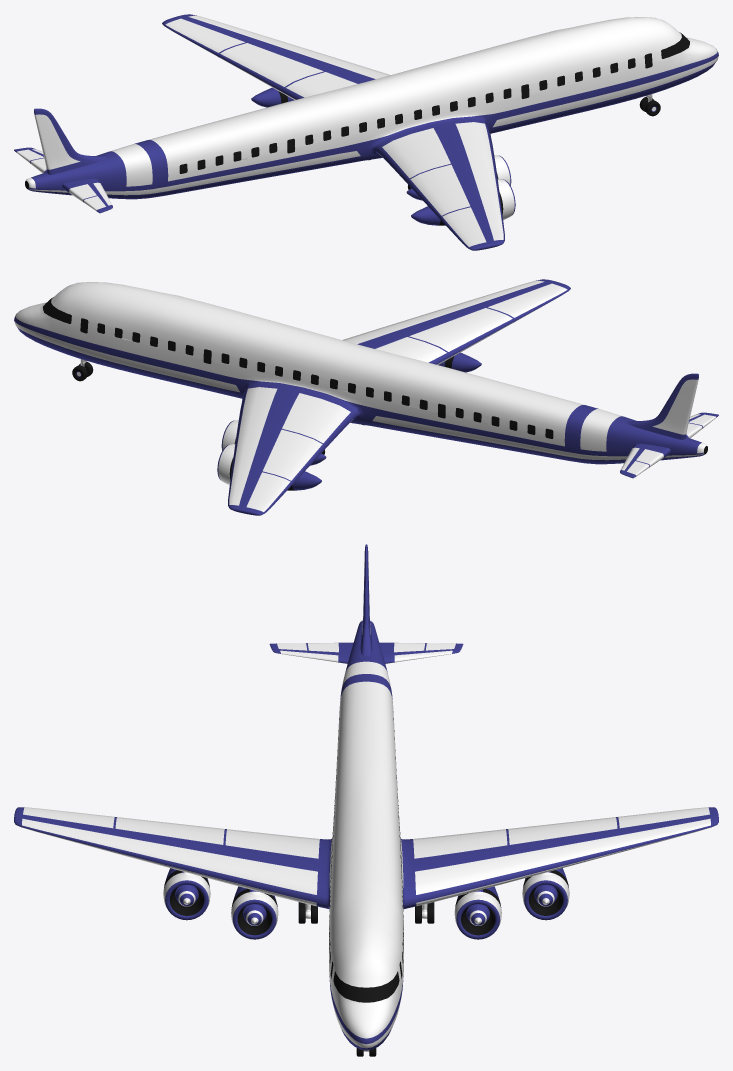
Rendered from 18_2_Airplane_AIRPORT_0.obj.
3 renders of one model, top to bottom at view 1: azimuth 30°, elevation 25°; view 2: azimuth 150°, elevation 25°; view 3: azimuth 270°, elevation 25°, orthographic. The views are drawn at different scales.
Visible parts, largest first — view 1: 18.2.Airplane_AIRPORT_0; view 2: 18.2.Airplane_AIRPORT_0; view 3: 18.2.Airplane_AIRPORT_0.
Part boxes in pixels (<box>): 18.2.Airplane_AIRPORT_0: <box>14,14,718,250</box>; 18.2.Airplane_AIRPORT_0: <box>14,279,718,515</box>; 18.2.Airplane_AIRPORT_0: <box>14,544,718,1056</box>.
Size of the model in its own units: 90.29 by 19.31 by 70.95.
Materials: 1 (1 with a texture image).
